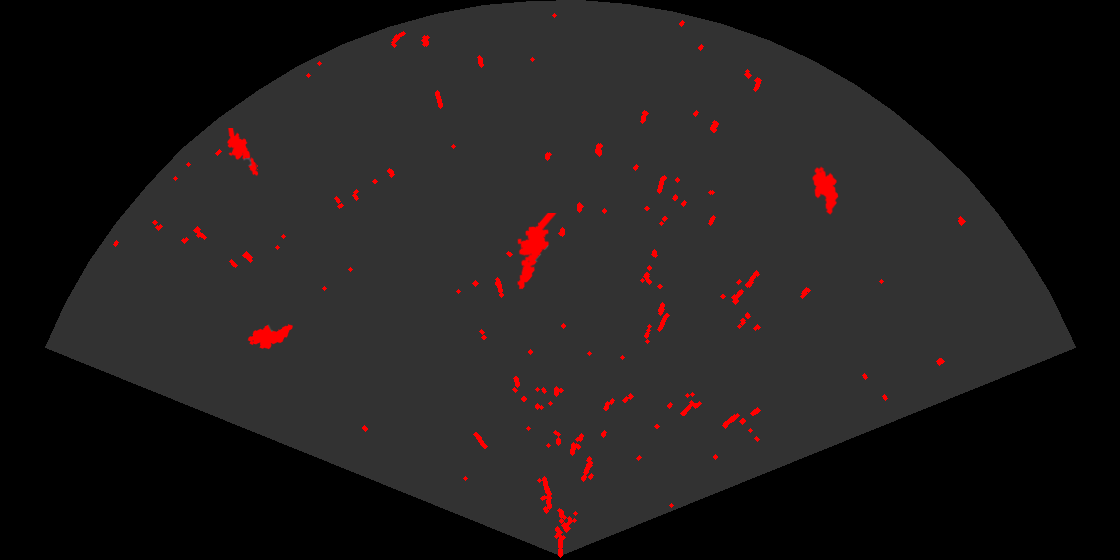AUV: (811, 165, 840, 216), (246, 323, 295, 351)
frogman: (516, 213, 558, 291), (226, 128, 260, 178)
